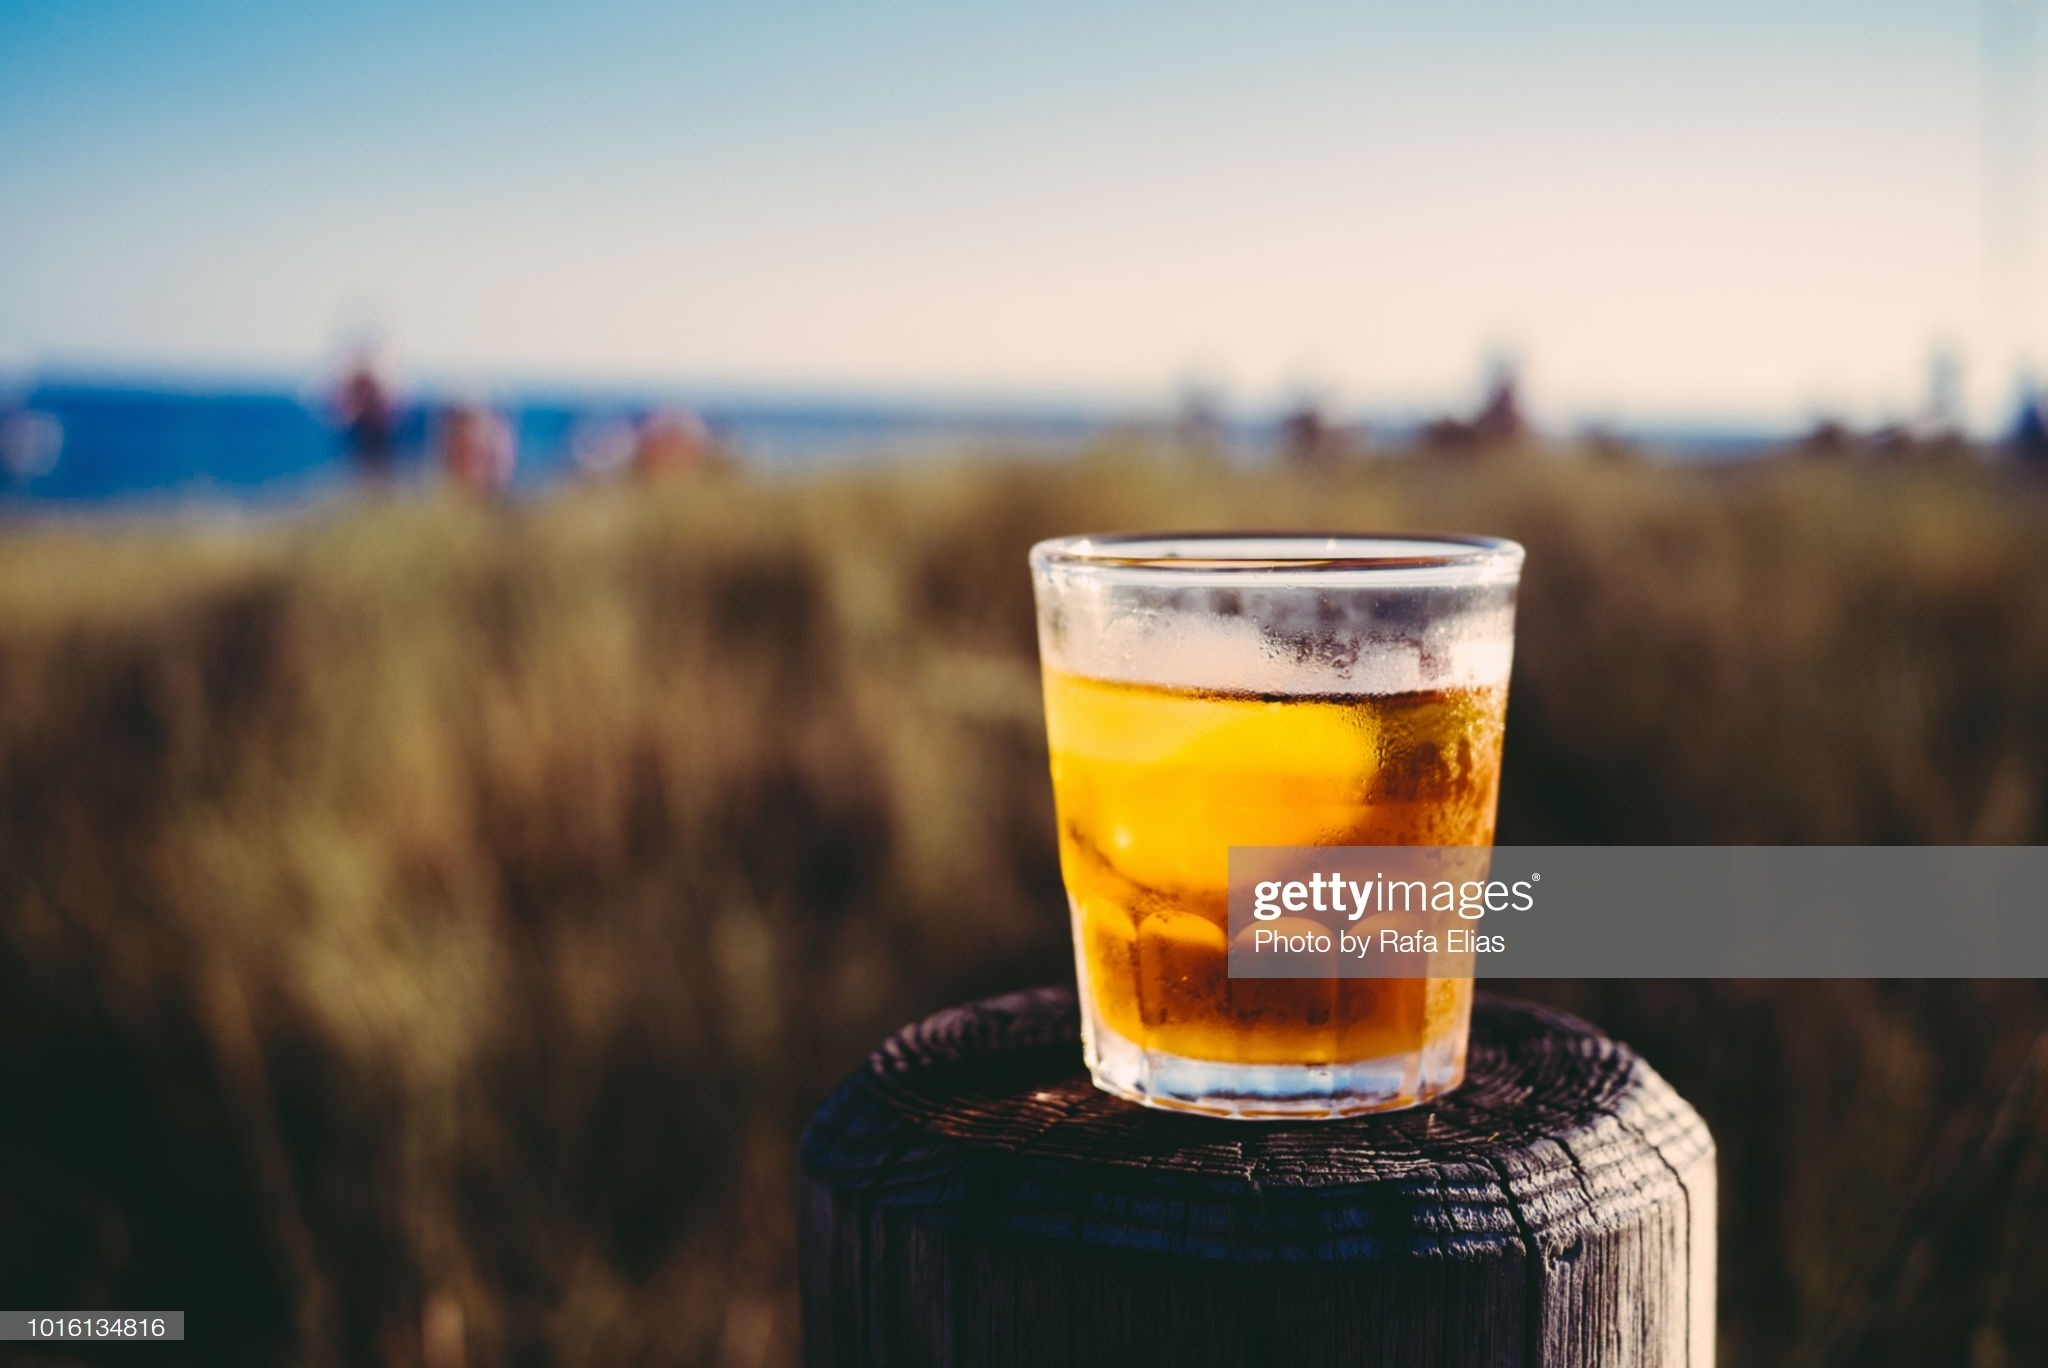whiskey: (1032, 534, 1529, 1099)
